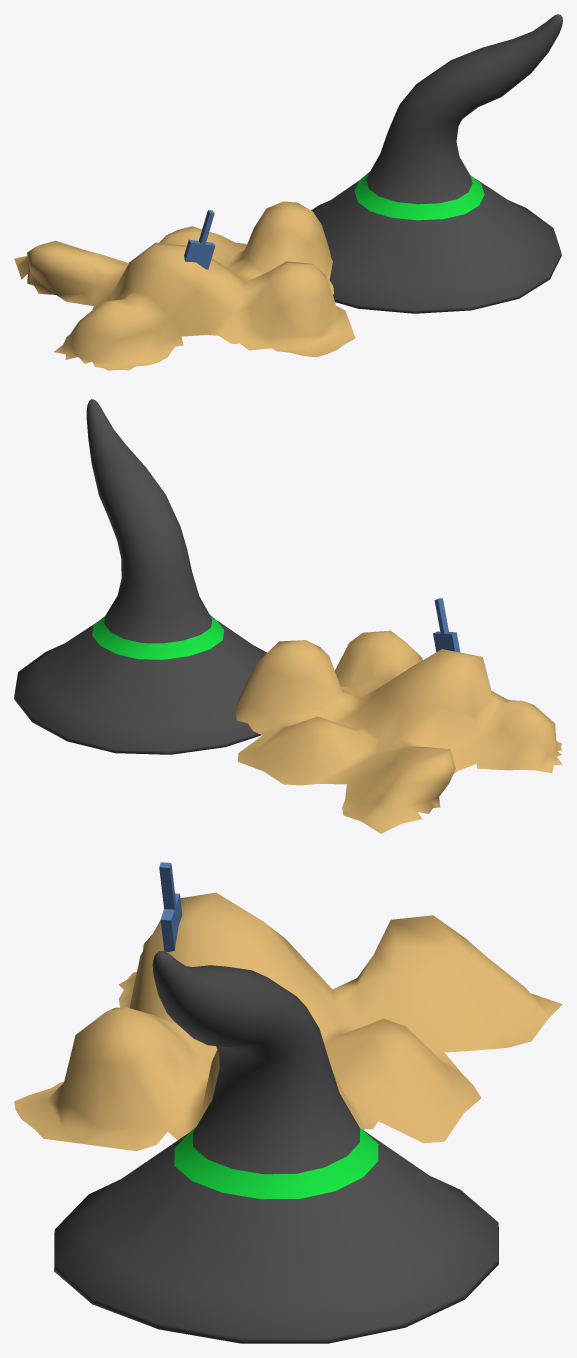
The model's file is Wrong option 3.fbx.
3 renders of one model, top to bottom at view 1: azimuth 30°, elevation 25°; view 2: azimuth 150°, elevation 25°; view 3: azimuth 270°, elevation 25°, orthographic. The views are drawn at different scales.
Visible parts, largest first — view 1: Kitchen Wrong 3; view 2: Kitchen Wrong 3; view 3: Kitchen Wrong 3.
Part boxes in pixels (box(x1,y1,x2,y2)): Kitchen Wrong 3: box(14, 14, 562, 370); Kitchen Wrong 3: box(14, 399, 562, 833); Kitchen Wrong 3: box(14, 862, 562, 1343).
Size of the model in its own units: 31.41 by 14.62 by 19.04.
